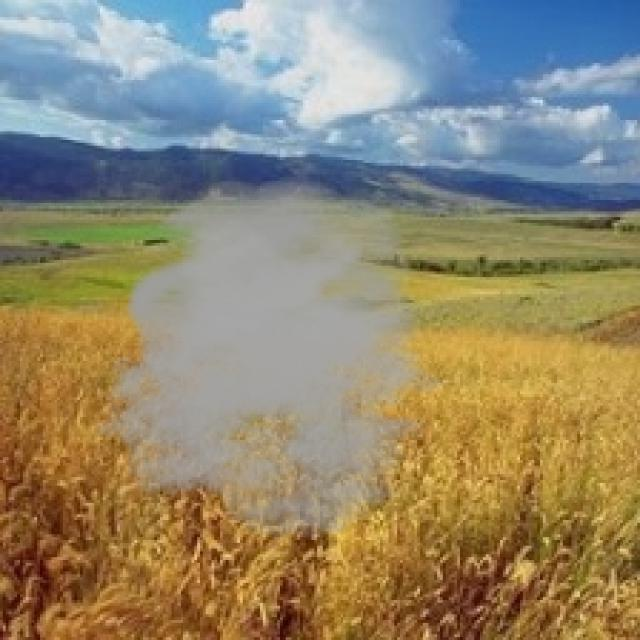smoke: (94, 174, 466, 540)
